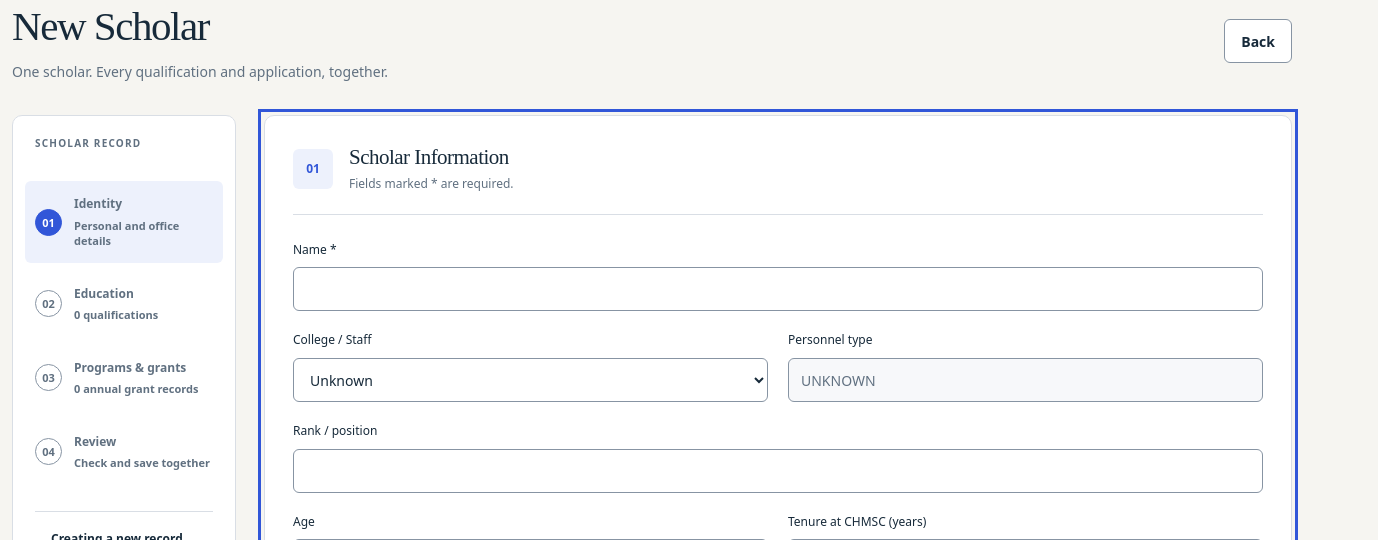
it: Enter from identity opens review instead of committing without review
Step 1. Type "Review first" into the field labelled "Name *" → coordinates (778, 289), box left=293, top=267, right=1263, bottom=311
(page scrolled)
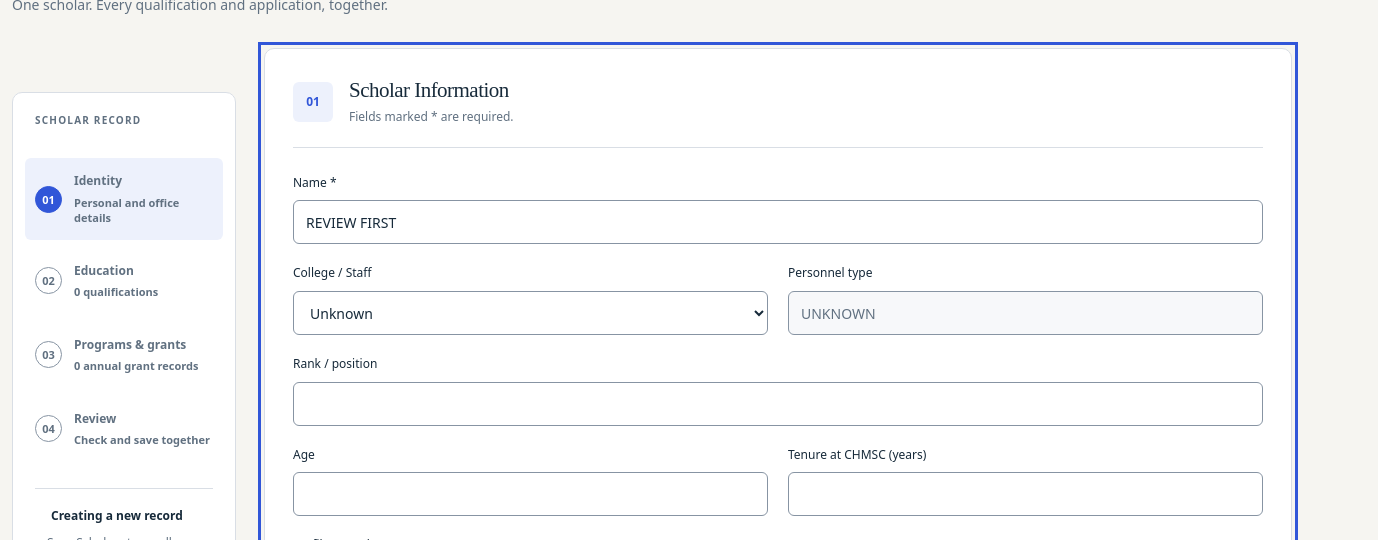
Step 2. Submit the form
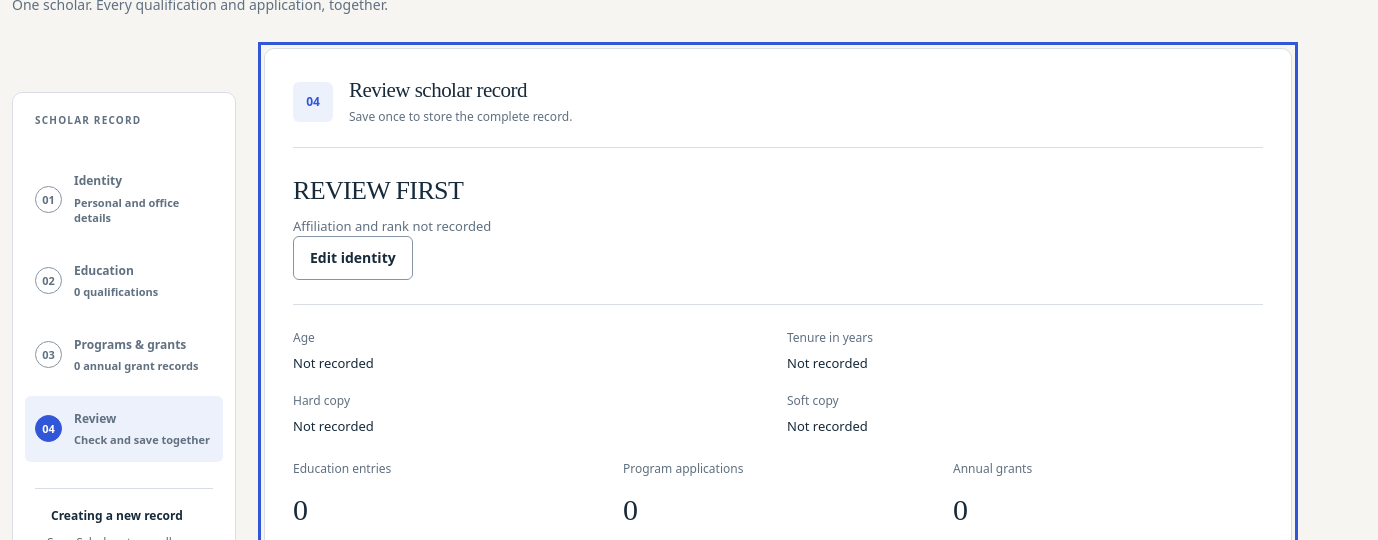
Expected: the heading "Review scholar record" is shown, left=349, top=78, right=527, bottom=102
